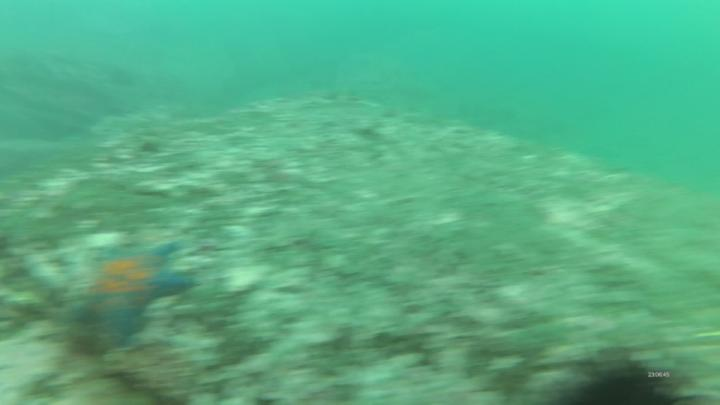echinus: (540, 347, 702, 405)
starfish: (69, 232, 198, 338)
